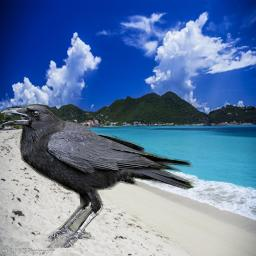Crow: (0, 104, 195, 248)
